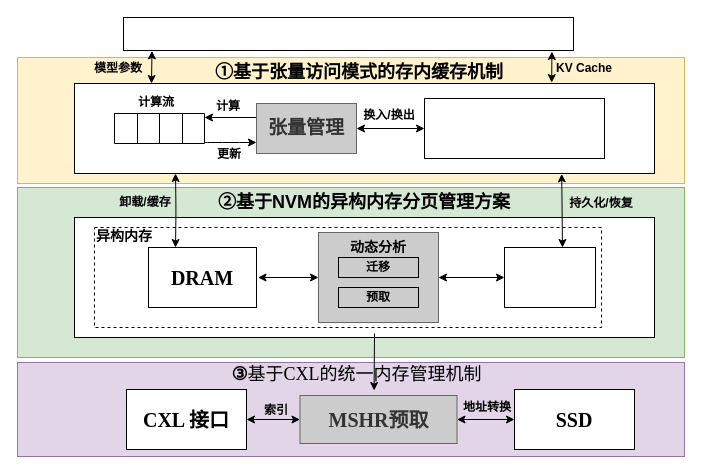
Some shapes in this 702 by 474 pixel diagram are drawn without their labels. The shapes that lost their labels are listed below. From the top down, each one's centre as x and y in pixels, then its label:
At [348,33]: "推理应用".
At [514,128]: "GPU缓存".
At [550,277]: "NVM".
